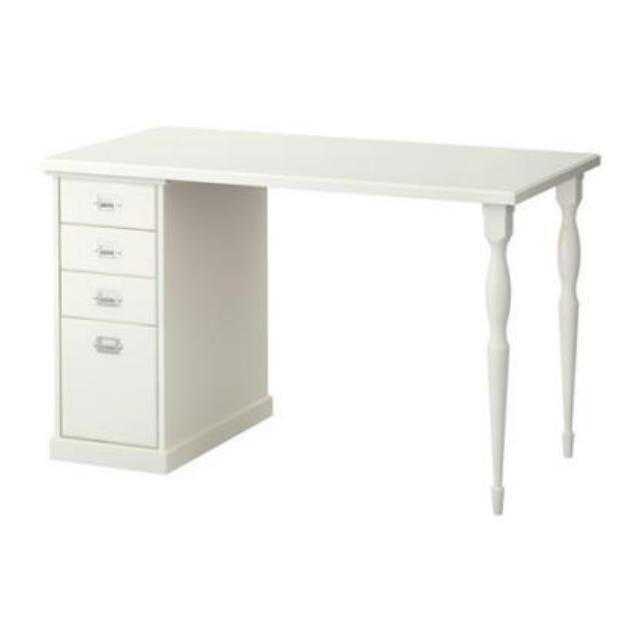table: (45, 125, 583, 515)
